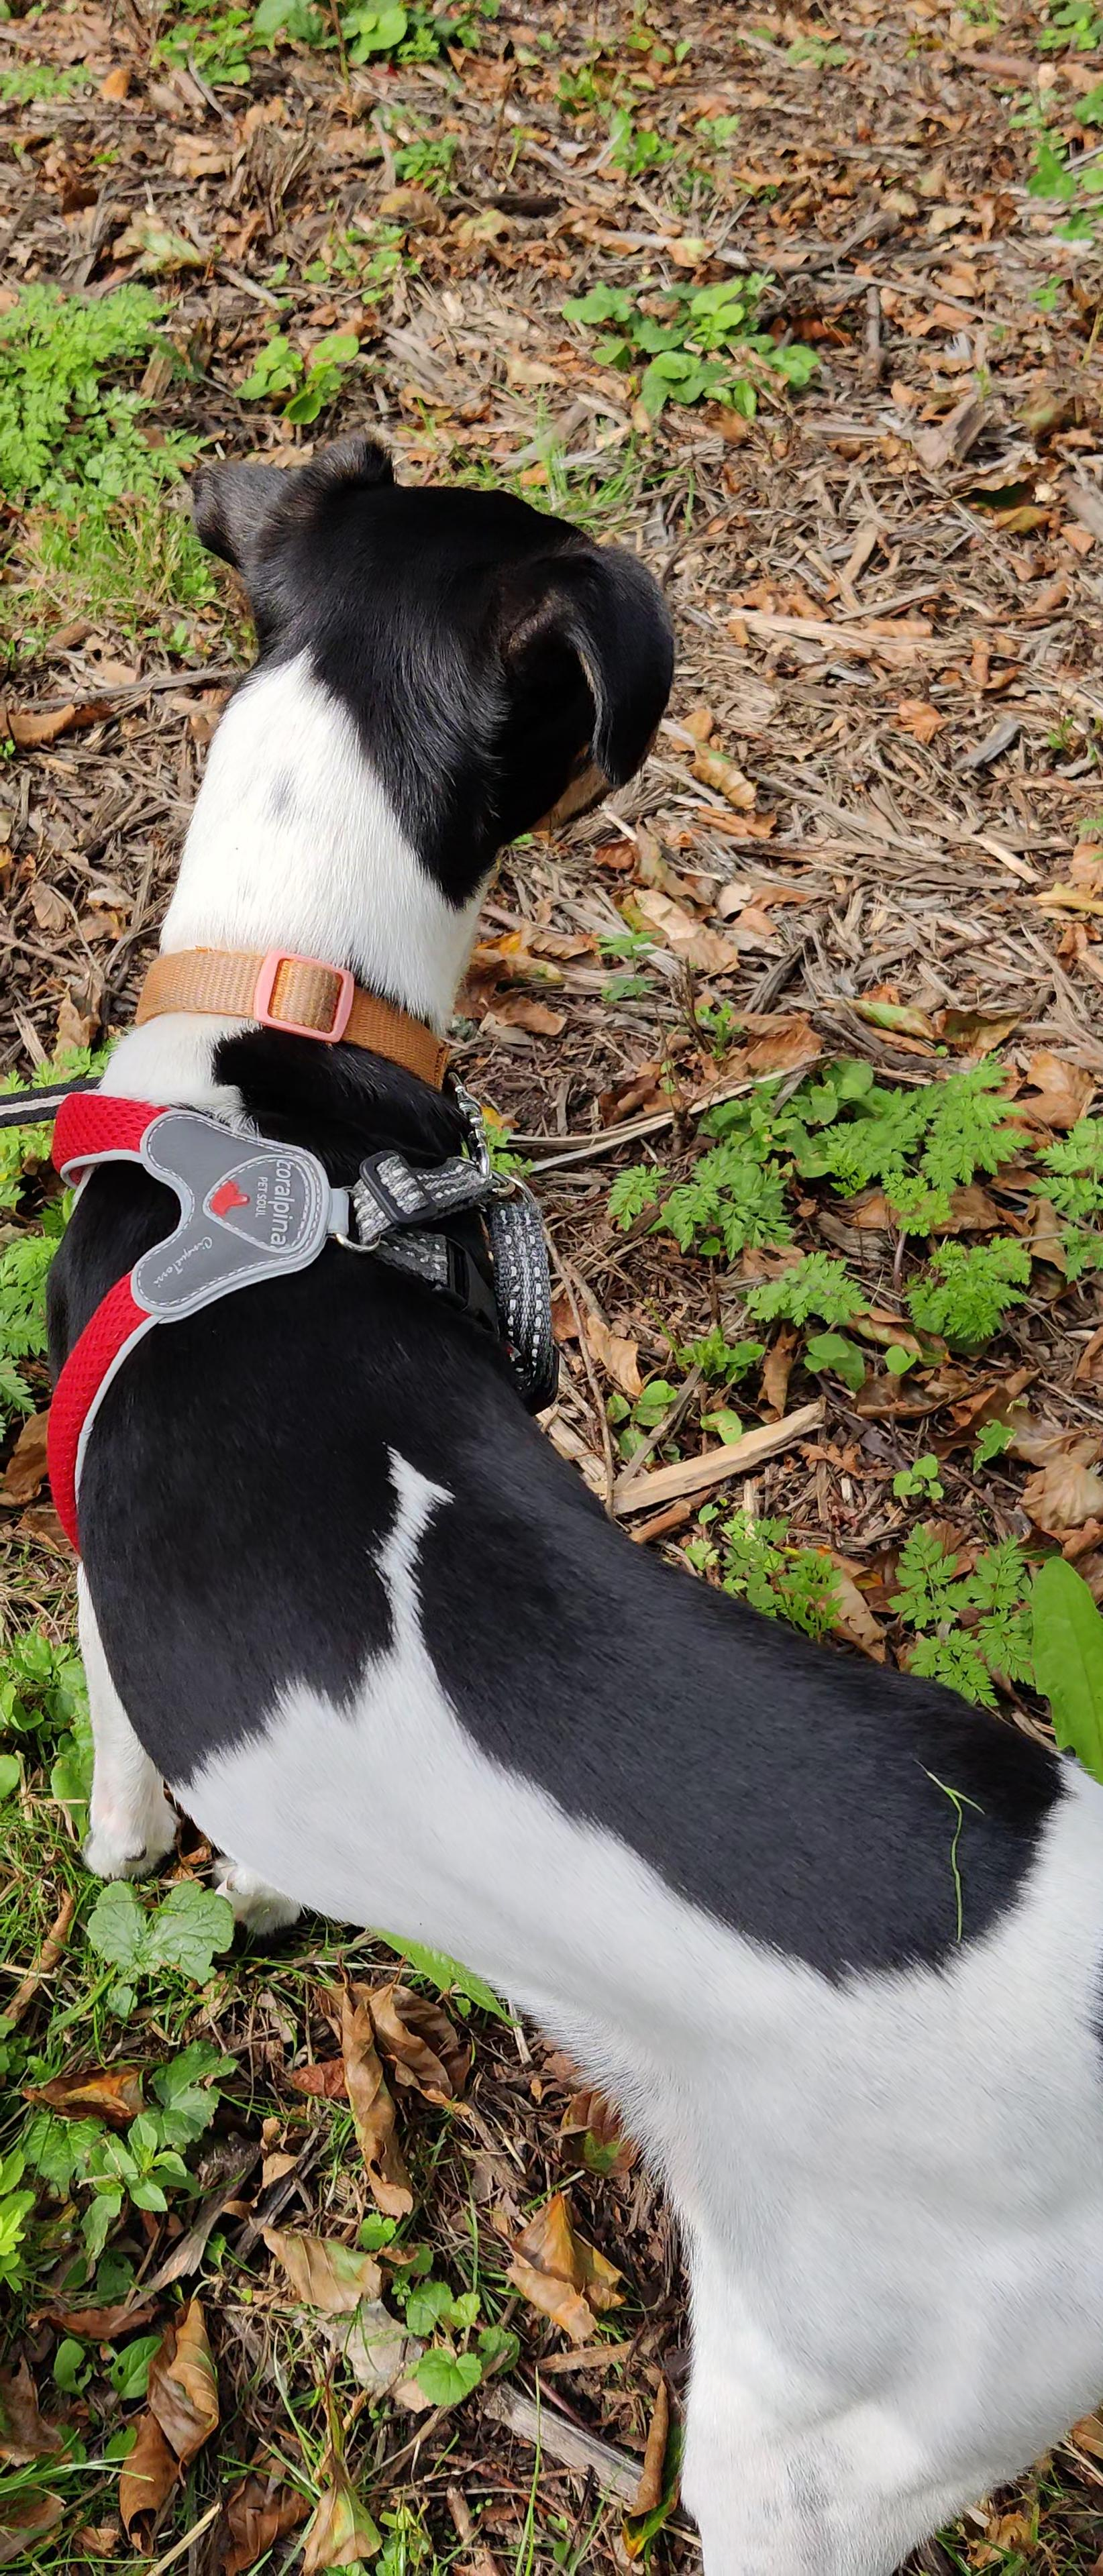Dog: (39, 384, 1103, 2576)
